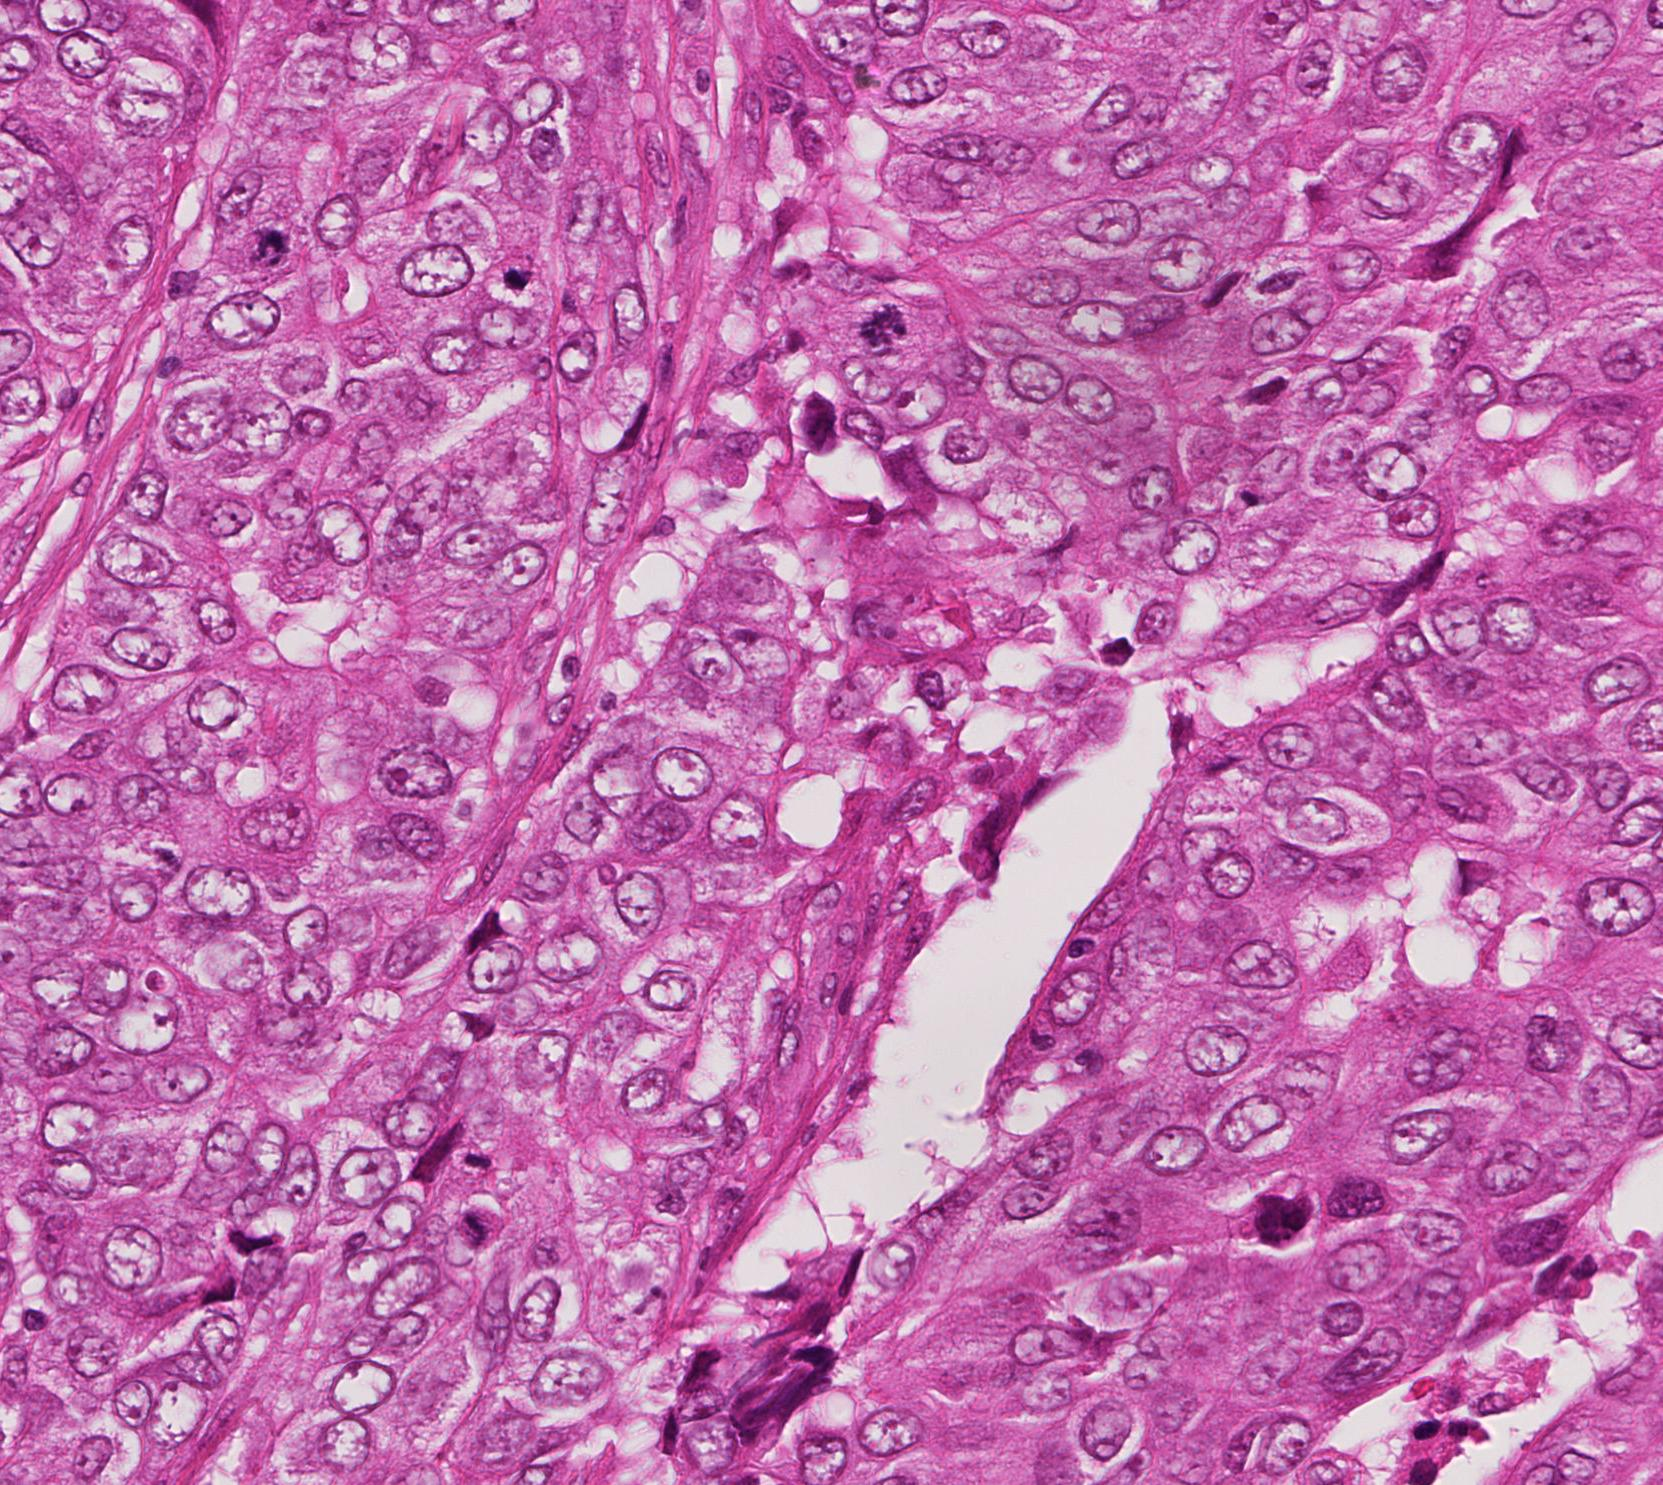mitosis: (242, 218, 302, 278), (854, 298, 915, 358), (453, 1195, 513, 1256)
